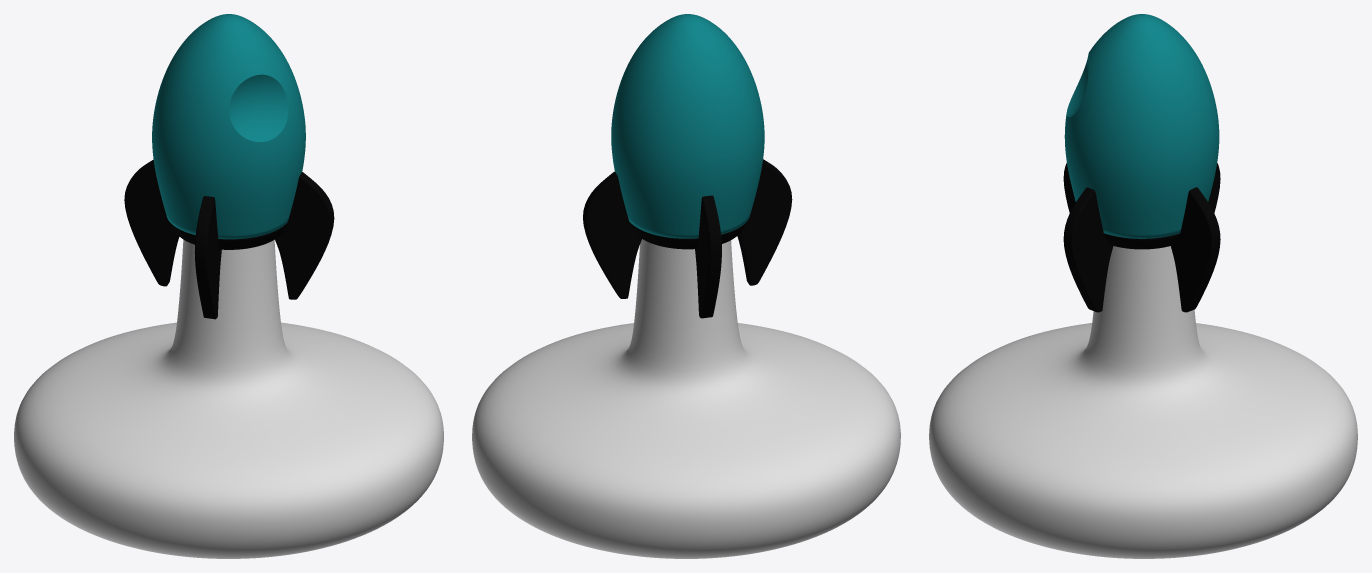
Rendered from Rocket1.glb.
3 renders of one model, left to right at view 1: azimuth 30°, elevation 25°; view 2: azimuth 150°, elevation 25°; view 3: azimuth 270°, elevation 25°, orthographic.
Parts seen in each view (by area): view 1: Smoke, Body, Wings; view 2: Smoke, Body, Wings; view 3: Smoke, Body, Wings.
Part boxes in pixels (bbox=[...]): Smoke: bbox=[14, 239, 443, 558]; Body: bbox=[152, 14, 305, 239]; Wings: bbox=[124, 159, 334, 319]; Smoke: bbox=[472, 239, 900, 558]; Body: bbox=[611, 14, 764, 238]; Wings: bbox=[583, 159, 792, 318]; Smoke: bbox=[929, 246, 1357, 558]; Body: bbox=[1064, 14, 1219, 238]; Wings: bbox=[1063, 163, 1220, 312].
Size of the model in its own units: 0.0864 by 0.1053 by 0.0864.
